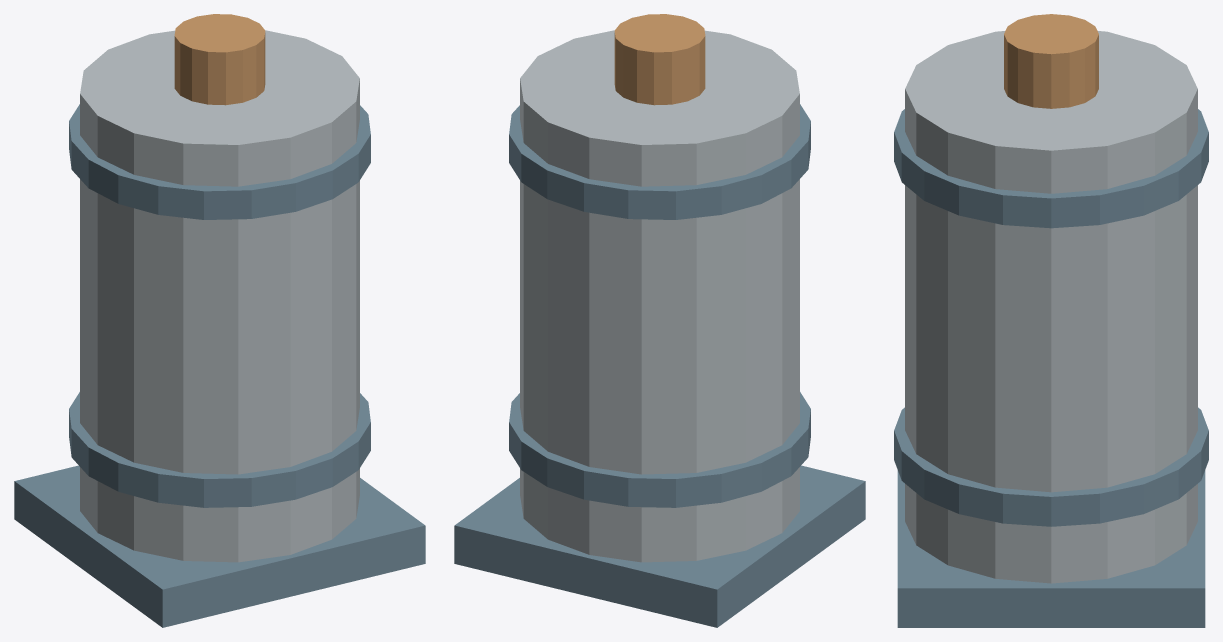
The model's file is 19_L69_CompressorOilSeparator.glb.
The picture shows the model from 3 angles, left to right: view 1: azimuth 30°, elevation 25°; view 2: azimuth 150°, elevation 25°; view 3: azimuth 270°, elevation 25°; orthographic projection. The views are drawn at different scales.
Visible parts, largest first — view 1: CompressorOilSeparator_Part_000, CompressorOilSeparator_Part_004, CompressorOilSeparator_Part_003, CompressorOilSeparator_Part_002, CompressorOilSeparator_Part_001; view 2: CompressorOilSeparator_Part_000, CompressorOilSeparator_Part_004, CompressorOilSeparator_Part_003, CompressorOilSeparator_Part_002, CompressorOilSeparator_Part_001; view 3: CompressorOilSeparator_Part_000, CompressorOilSeparator_Part_004, CompressorOilSeparator_Part_003, CompressorOilSeparator_Part_002, CompressorOilSeparator_Part_001.
Part boxes in pixels (<box>): CompressorOilSeparator_Part_000: <box>80,30,359,562</box>; CompressorOilSeparator_Part_004: <box>14,465,425,627</box>; CompressorOilSeparator_Part_003: <box>69,104,370,219</box>; CompressorOilSeparator_Part_002: <box>69,392,370,507</box>; CompressorOilSeparator_Part_001: <box>174,14,265,105</box>; CompressorOilSeparator_Part_000: <box>520,30,799,562</box>; CompressorOilSeparator_Part_004: <box>454,465,865,627</box>; CompressorOilSeparator_Part_003: <box>509,104,810,219</box>; CompressorOilSeparator_Part_002: <box>509,392,810,507</box>; CompressorOilSeparator_Part_001: <box>614,14,705,105</box>; CompressorOilSeparator_Part_000: <box>905,31,1197,583</box>; CompressorOilSeparator_Part_004: <box>897,470,1205,627</box>; CompressorOilSeparator_Part_003: <box>894,109,1208,228</box>; CompressorOilSeparator_Part_002: <box>894,407,1208,526</box>; CompressorOilSeparator_Part_001: <box>1004,14,1098,108</box>.
Bounding box in the file's own units: 0.86 × 1.59 × 0.86.
